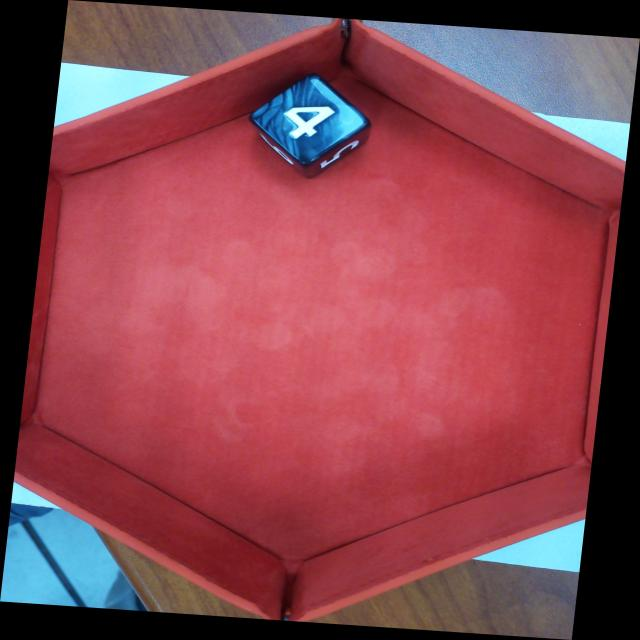dice: (254, 81, 363, 160)
